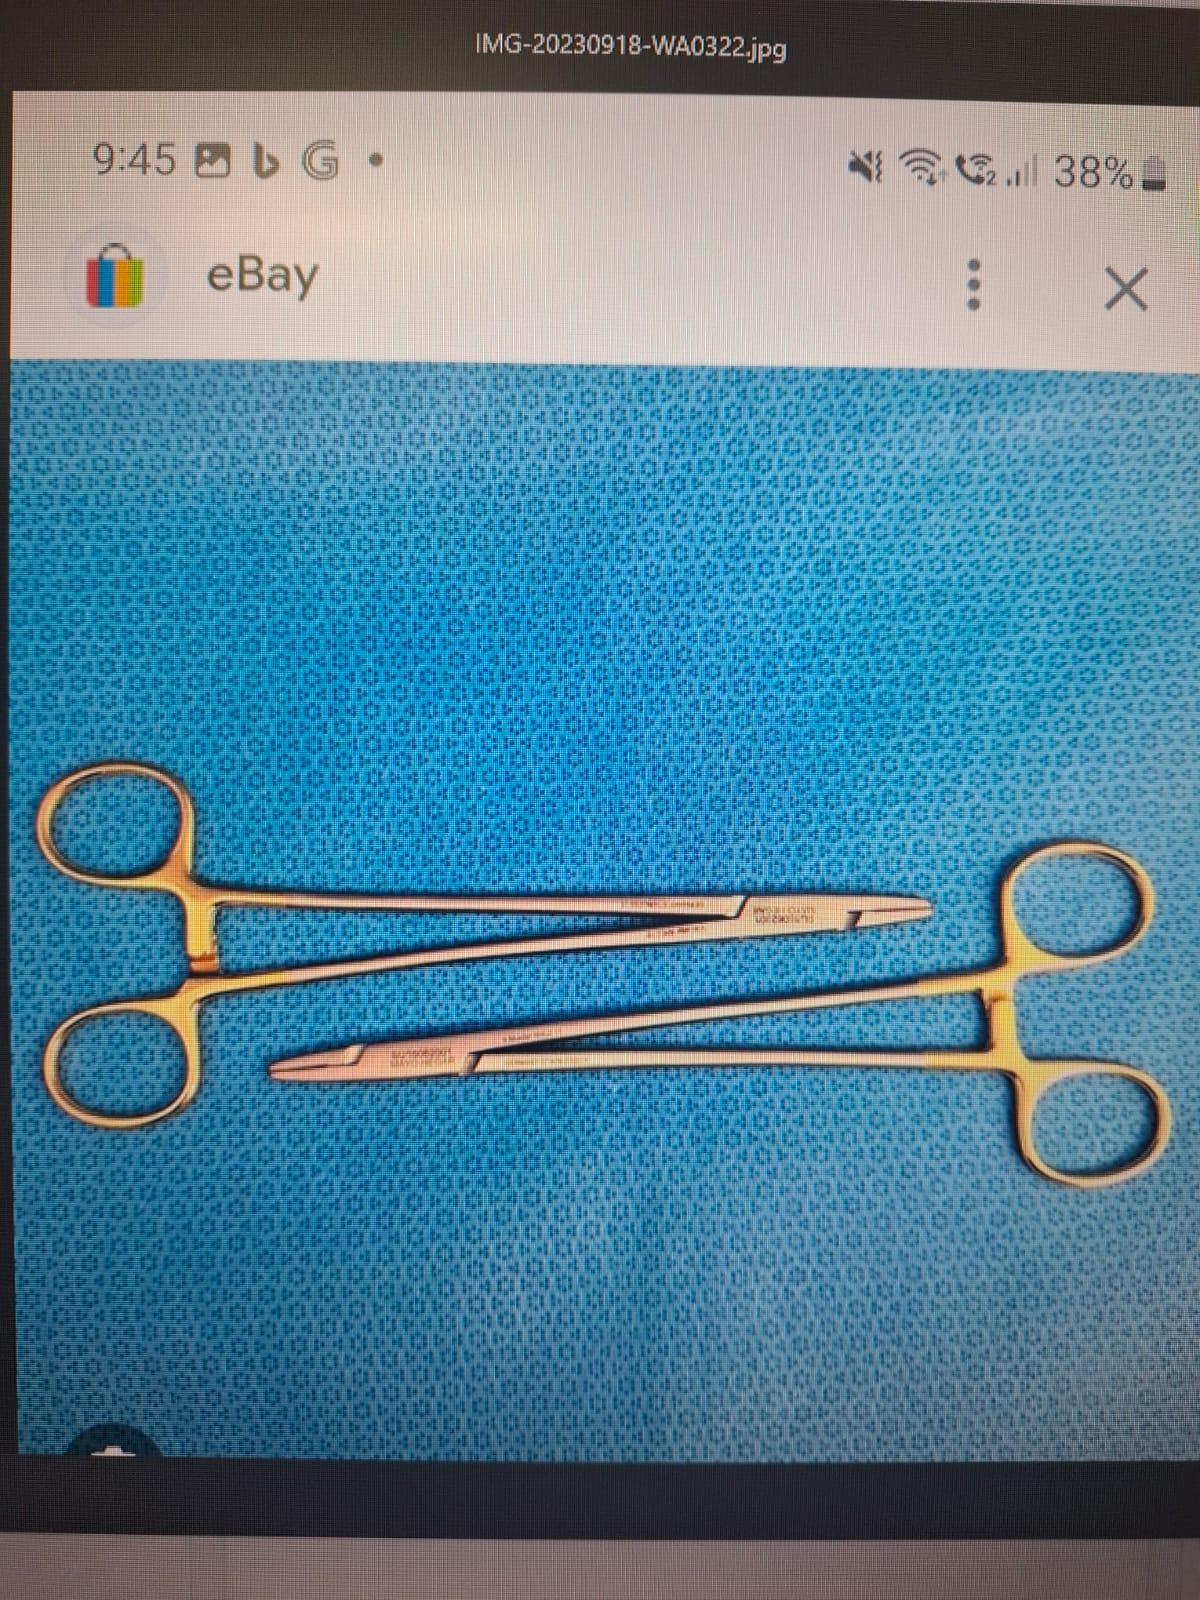Needle Holder: (20, 732, 948, 1140), (255, 835, 1182, 1204)
